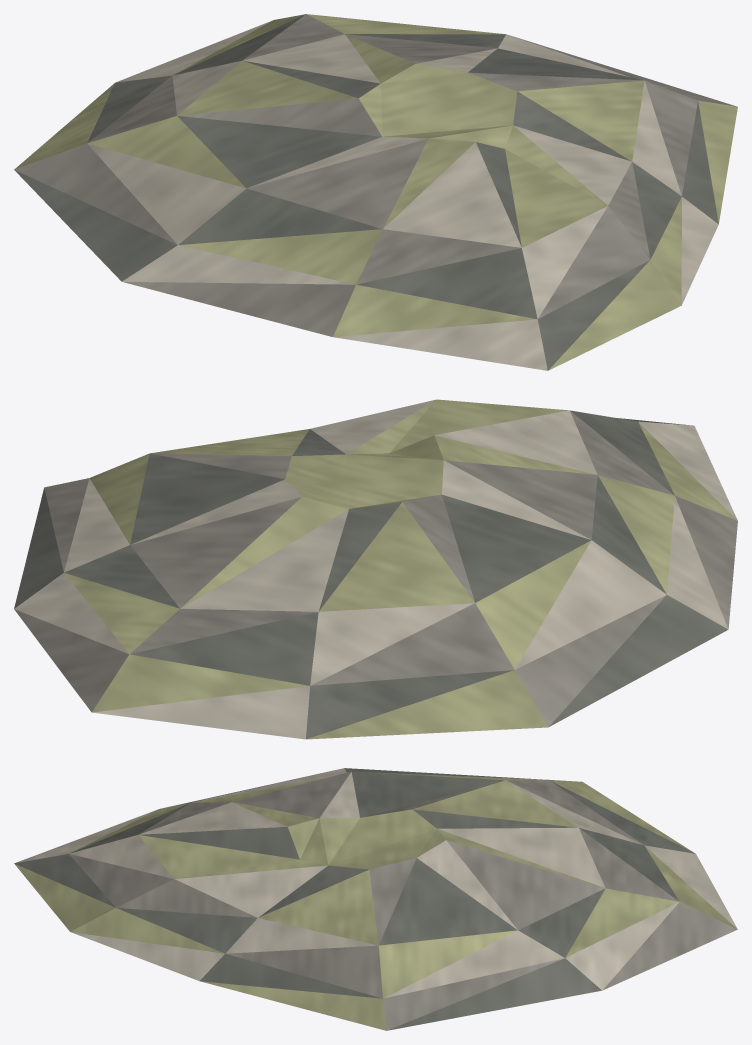
Rendered from rock_slab_flat_01.fbx.
3 renders of one model, top to bottom at view 1: azimuth 30°, elevation 25°; view 2: azimuth 150°, elevation 25°; view 3: azimuth 270°, elevation 25°, orthographic. The views are drawn at different scales.
Visible parts, largest first — view 1: rock_slab_flat_01; view 2: rock_slab_flat_01; view 3: rock_slab_flat_01.
Part boxes in pixels (box(x1,y1,x2,y2)): rock_slab_flat_01: box(14, 14, 737, 370); rock_slab_flat_01: box(14, 399, 737, 739); rock_slab_flat_01: box(14, 768, 737, 1030).
Size of the model in its own units: 258 by 44.5 by 300.
Materials: 1 (1 with a texture image).
